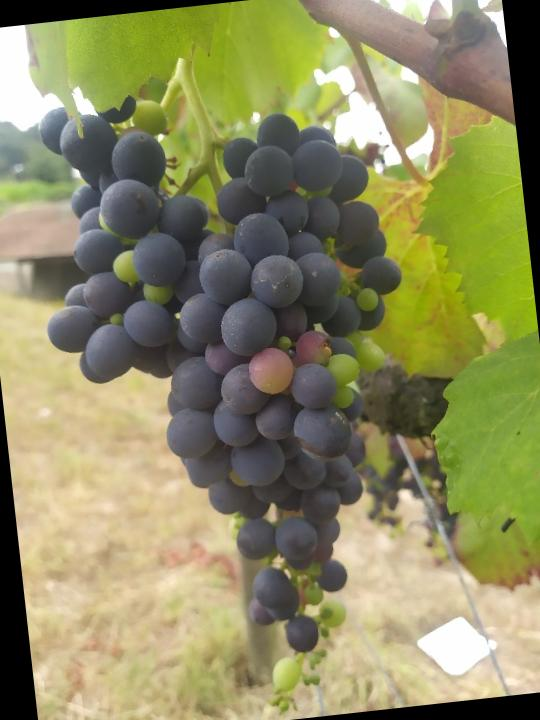grape: (24, 70, 447, 720)
